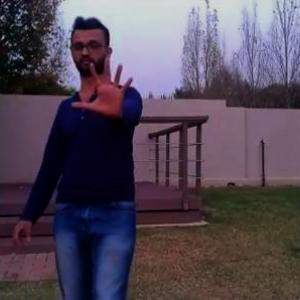follow_hand: (69, 54, 137, 123)
